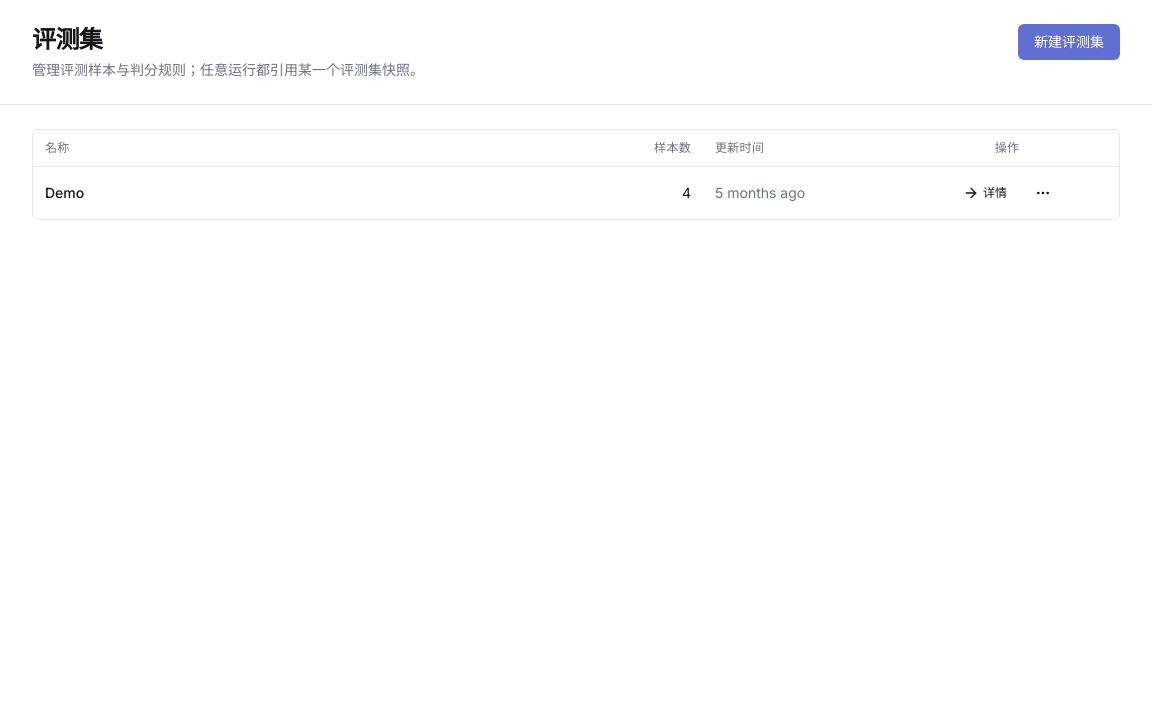
Test: EvaluationsListPage › delete option in More menu opens AlertDialog with name in title (user-owned row)
Click the button named "更多" at (1043, 192), box left=1023, top=176, right=1063, bottom=208
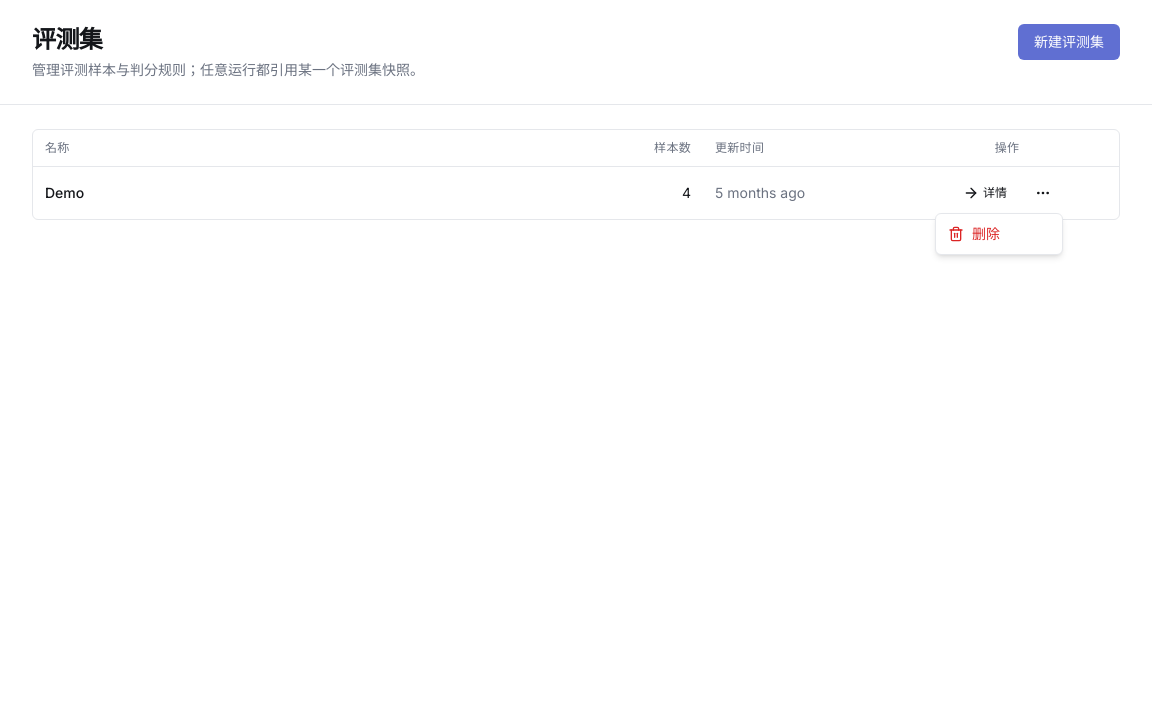
Click the menu item "删除" at (974, 234), box left=948, top=225, right=1000, bottom=242
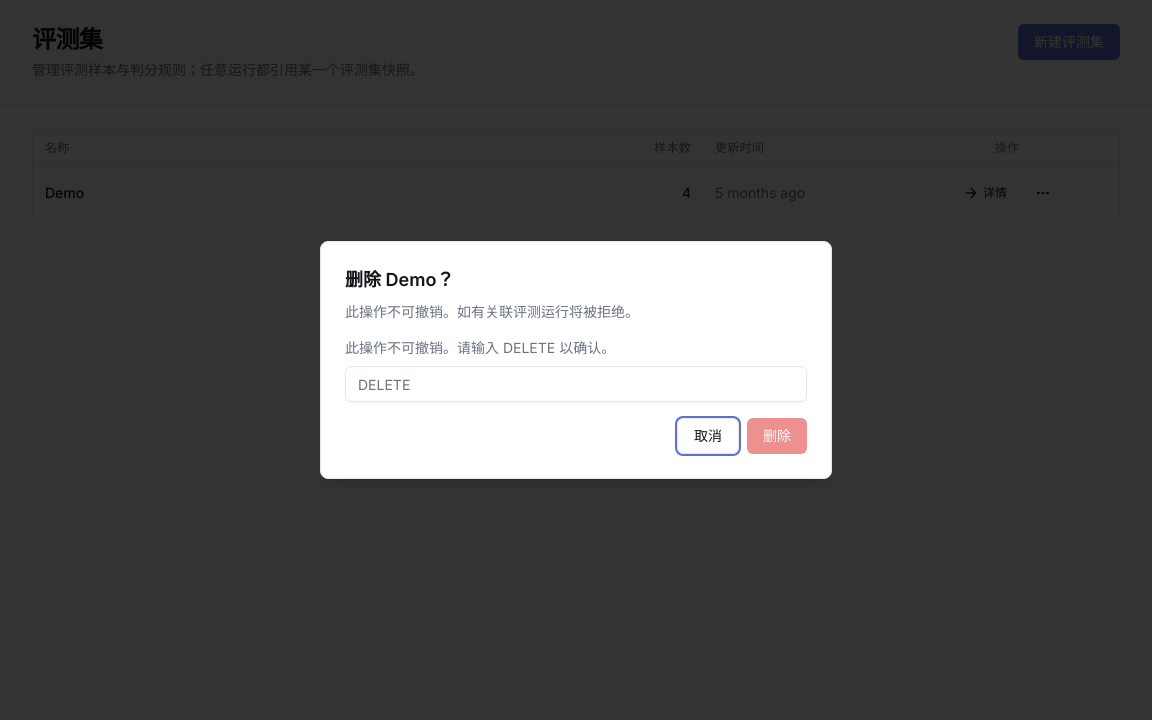
Expected: the heading "删除 Demo？" is shown, left=345, top=269, right=454, bottom=290
